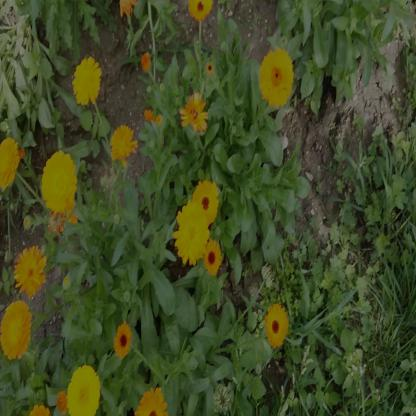marigold: (42, 154, 74, 213), (260, 50, 292, 106), (176, 206, 205, 263), (67, 365, 98, 416), (2, 303, 30, 358), (17, 248, 44, 296), (177, 91, 209, 130), (72, 56, 98, 103), (193, 180, 217, 224), (135, 383, 167, 416), (0, 134, 20, 186), (264, 306, 288, 348), (111, 123, 136, 161), (202, 240, 221, 276), (187, 0, 214, 23), (114, 322, 132, 356)
